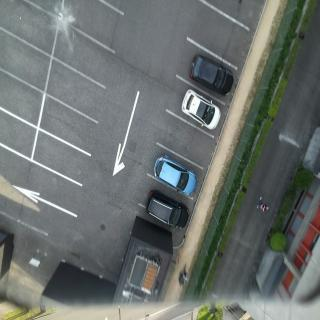car: (188, 52, 236, 100), (143, 188, 191, 233), (151, 153, 200, 197), (180, 87, 225, 131)
parking-space: (52, 17, 116, 94), (43, 57, 114, 126), (184, 1, 252, 73), (37, 93, 100, 157), (155, 107, 217, 171), (28, 129, 94, 188), (1, 28, 55, 96), (1, 1, 58, 61)
